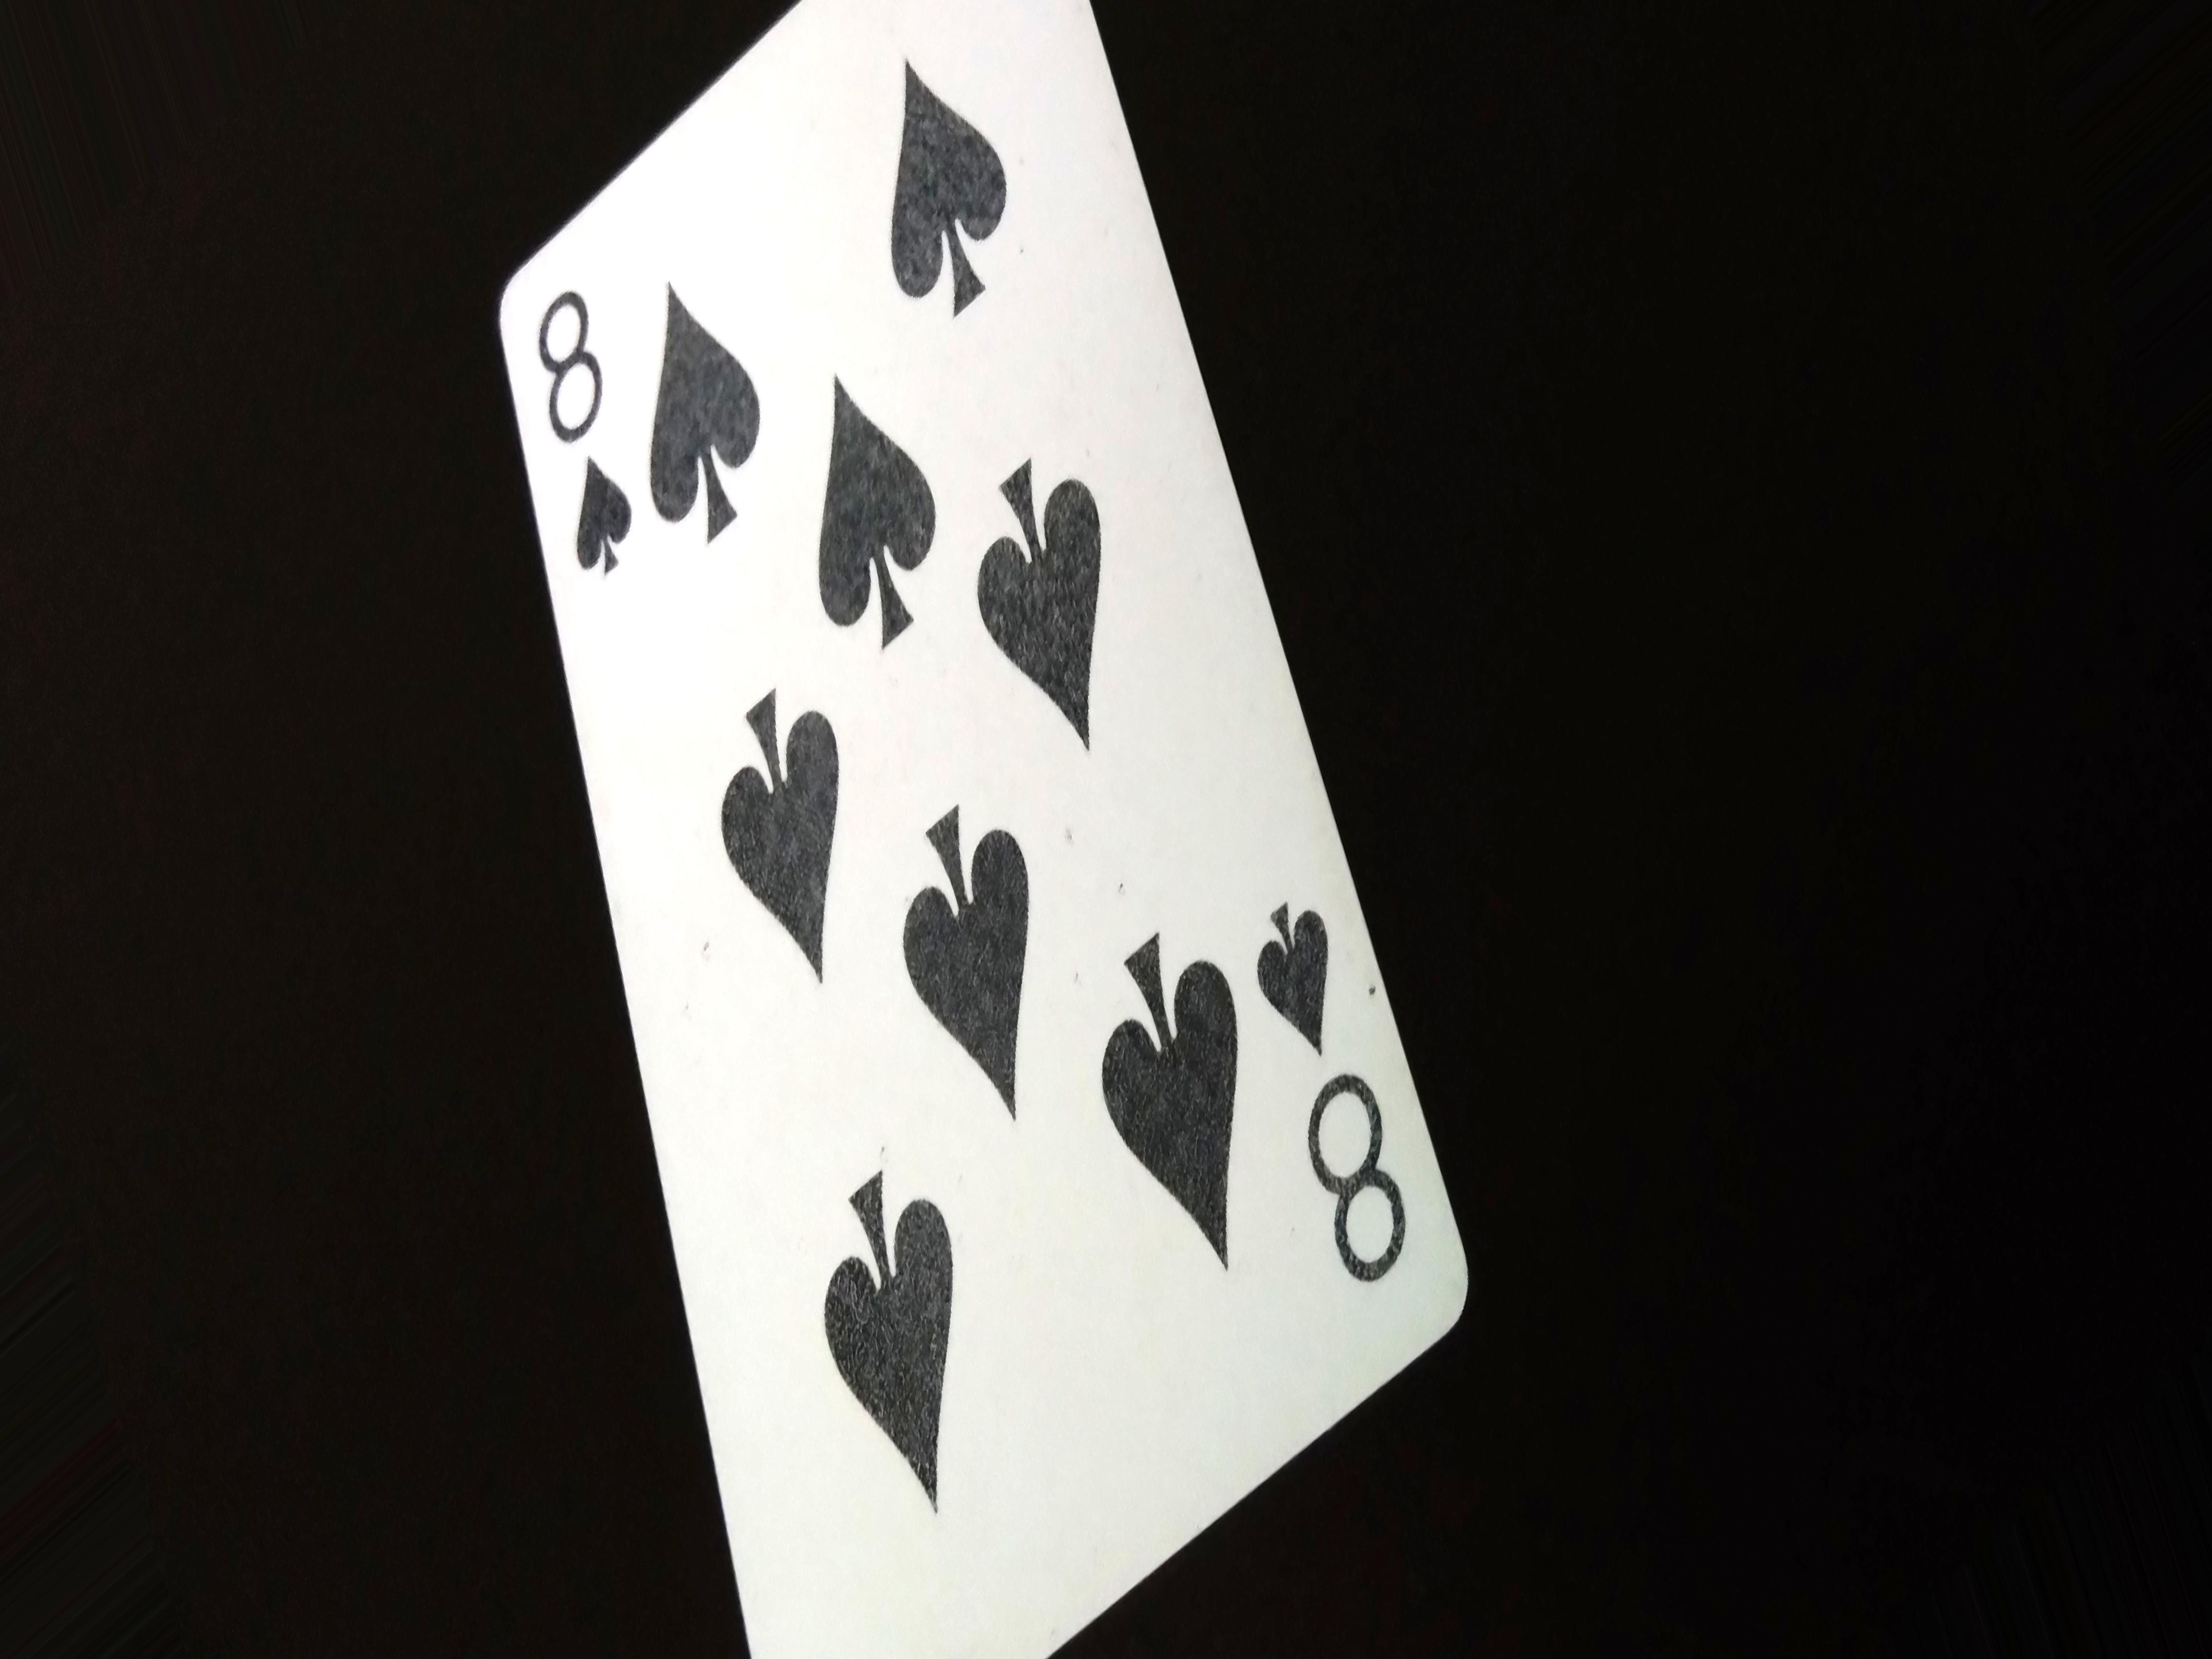8S: (524, 277, 655, 603)
